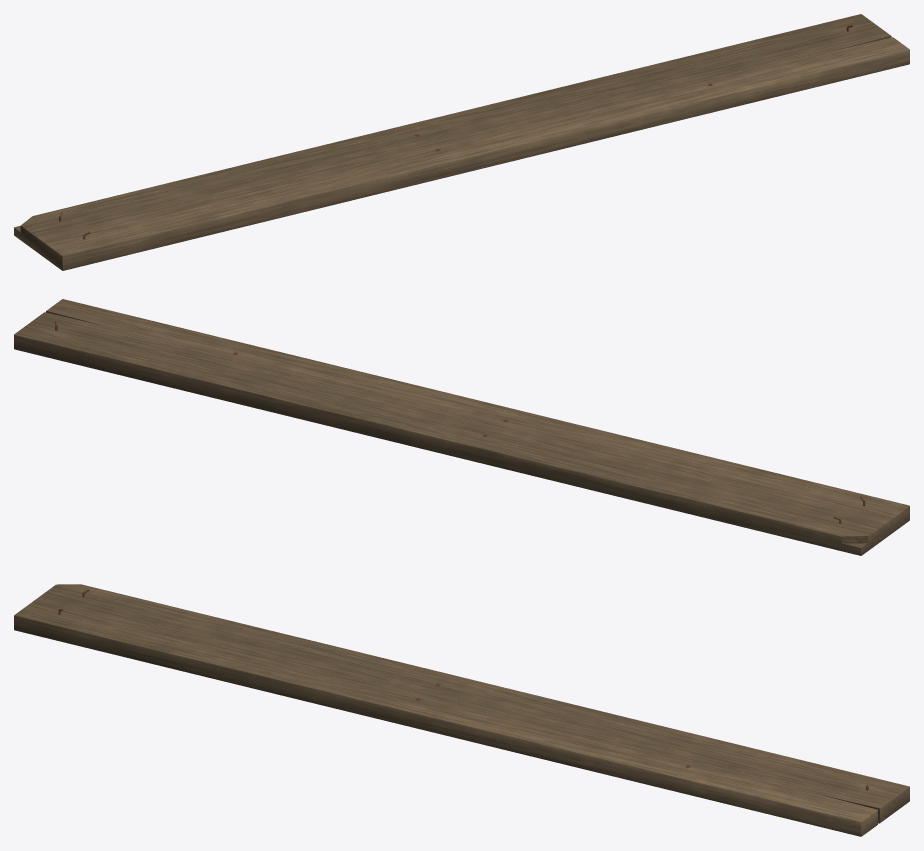
The model's file is tabua.glb.
3 renders of one model, top to bottom at view 1: azimuth 30°, elevation 25°; view 2: azimuth 150°, elevation 25°; view 3: azimuth 330°, elevation 25°, orthographic.
Parts seen in each view (by area): view 1: tabua; view 2: tabua; view 3: tabua.
Boxes of the visible parts, x1,y1,x2,y2 form: tabua: (14, 14, 909, 270); tabua: (14, 299, 909, 555); tabua: (14, 584, 909, 836).
Size of the model in its own units: 1.5 by 0.0386 by 0.15.
Materials: 1 (1 with a texture image).
